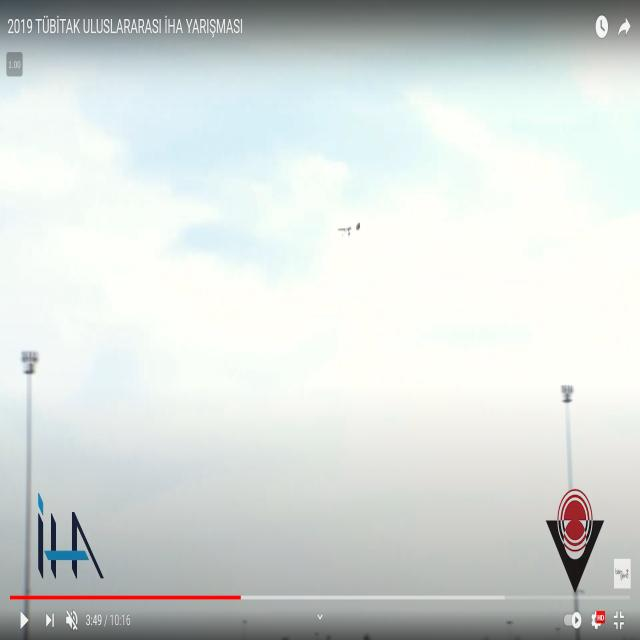iha: (337, 222, 361, 238)
